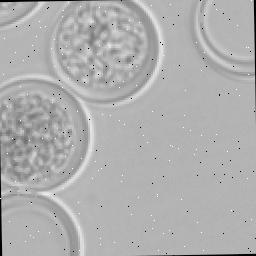picoshell: (49, 3, 165, 107), (1, 83, 88, 192), (192, 0, 255, 82), (3, 195, 84, 256), (0, 3, 46, 30)
